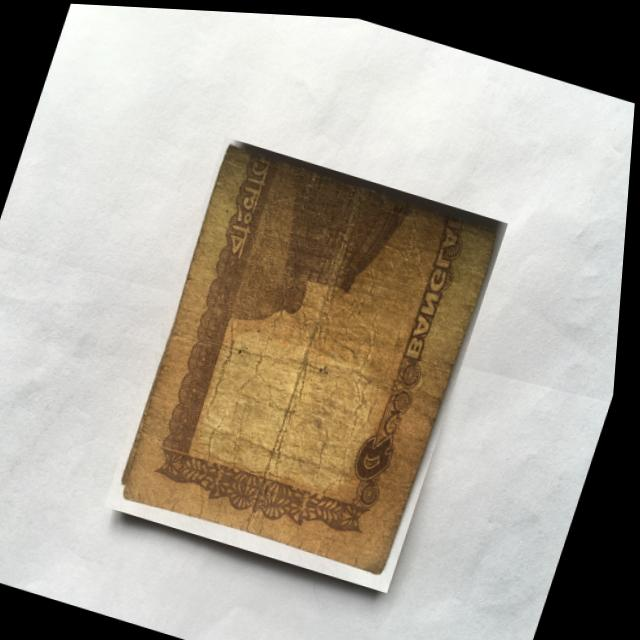Taka: (107, 131, 515, 592)
